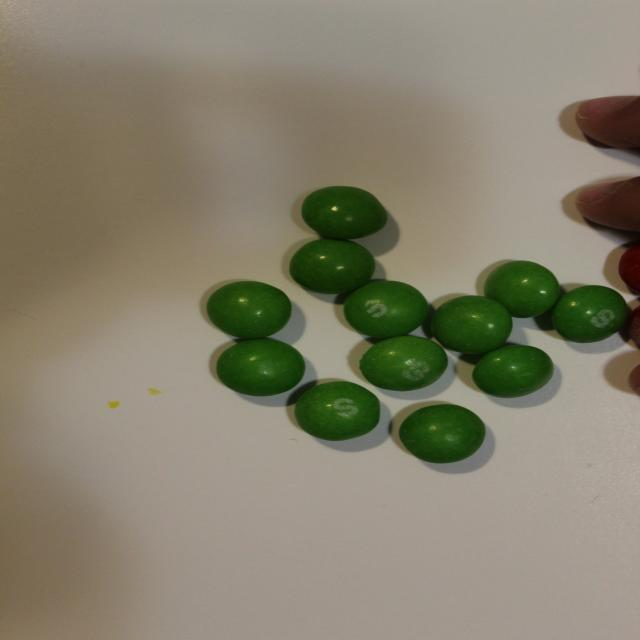smartie: (216, 338, 305, 397), (399, 405, 486, 464), (206, 281, 291, 339), (360, 336, 448, 391), (431, 295, 513, 354), (344, 281, 428, 338), (297, 382, 379, 440), (289, 239, 375, 294), (301, 186, 387, 240), (484, 260, 560, 318), (553, 285, 629, 343), (473, 346, 555, 398), (332, 398, 360, 419)
